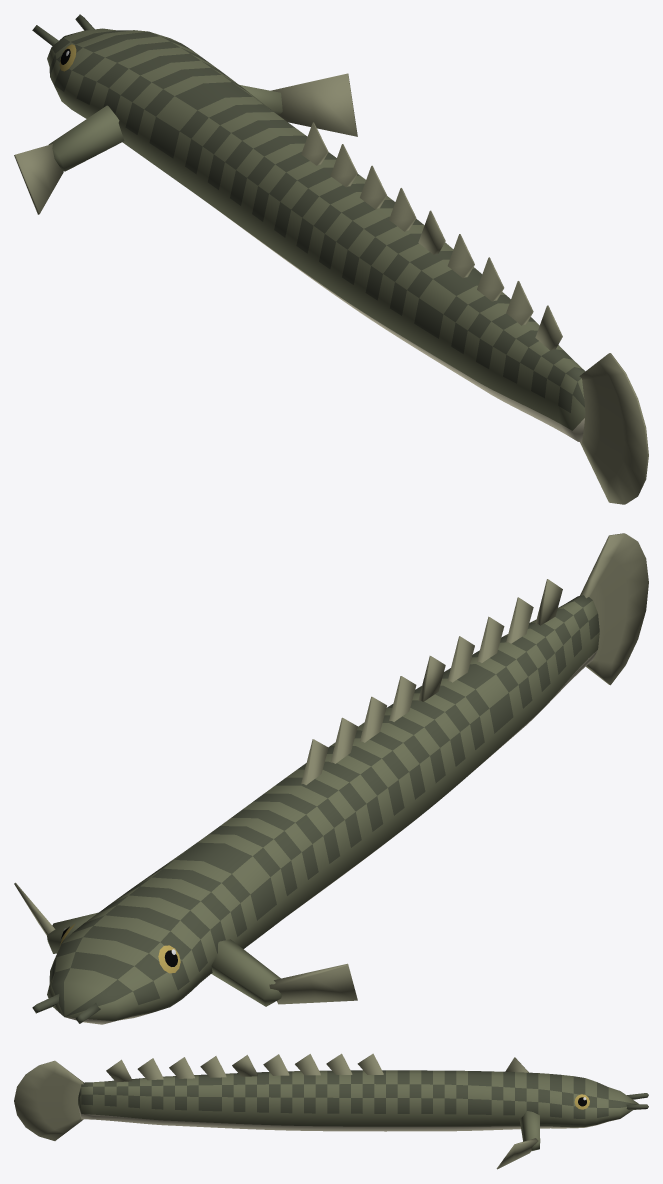
Rendered from bichir.glb.
3 views of the same model, one above another, from view 1: azimuth 30°, elevation 25°; view 2: azimuth 150°, elevation 25°; view 3: azimuth 270°, elevation 25° (orthographic). The views are drawn at different scales.
Visible parts, largest first — view 1: bichir; view 2: bichir; view 3: bichir.
Boxes of the visible parts, box(x1,y1,x2,y2) form: bichir: box(14, 14, 648, 504); bichir: box(14, 533, 648, 1024); bichir: box(14, 1053, 648, 1169).
Bounding box in the file's own units: 0.9228 × 0.4295 × 2.83.
